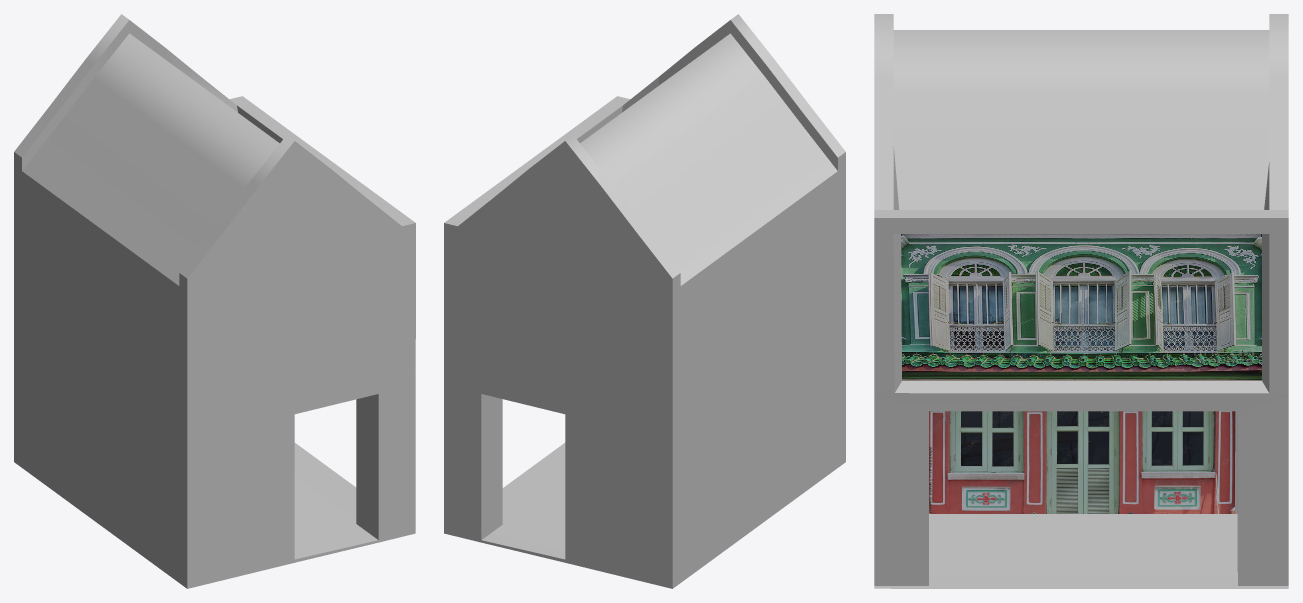
File: shophousepink.fbx
3 views of the same model, side by side, from view 1: azimuth 30°, elevation 25°; view 2: azimuth 150°, elevation 25°; view 3: azimuth 270°, elevation 25° (orthographic). The views are drawn at different scales.
Visible parts, largest first — view 1: Shophouse11; view 2: Shophouse11; view 3: Shophouse11.
Boxes of the visible parts, bbox=[...] form: Shophouse11: bbox=[14, 14, 415, 588]; Shophouse11: bbox=[444, 14, 845, 588]; Shophouse11: bbox=[874, 14, 1288, 588].
Size of the model in its own units: 408 by 721 by 536.
